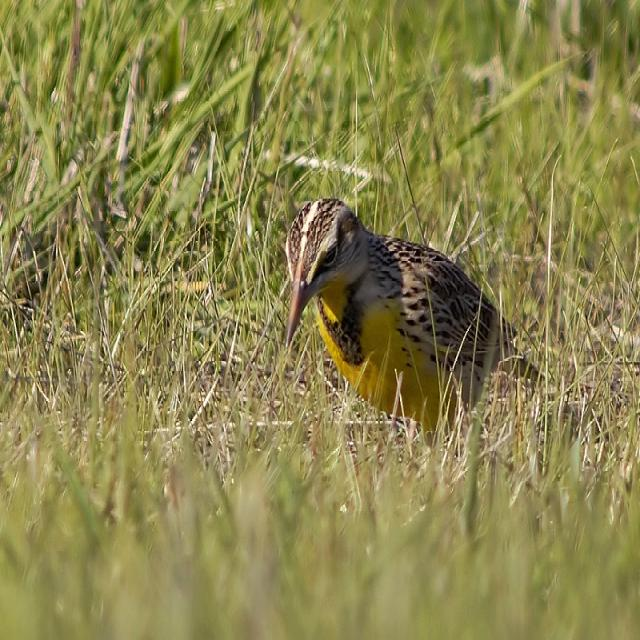bird: (286, 192, 544, 448)
